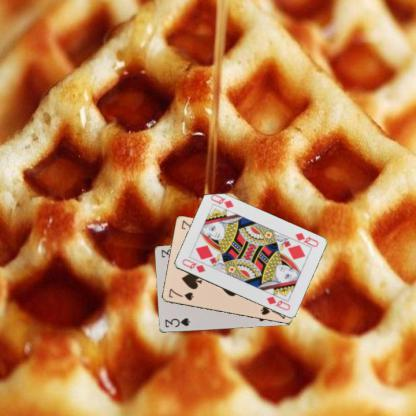3s: (162, 315, 192, 329)
7s: (166, 286, 195, 302)
Qd: (289, 230, 319, 250), (179, 256, 206, 274)
